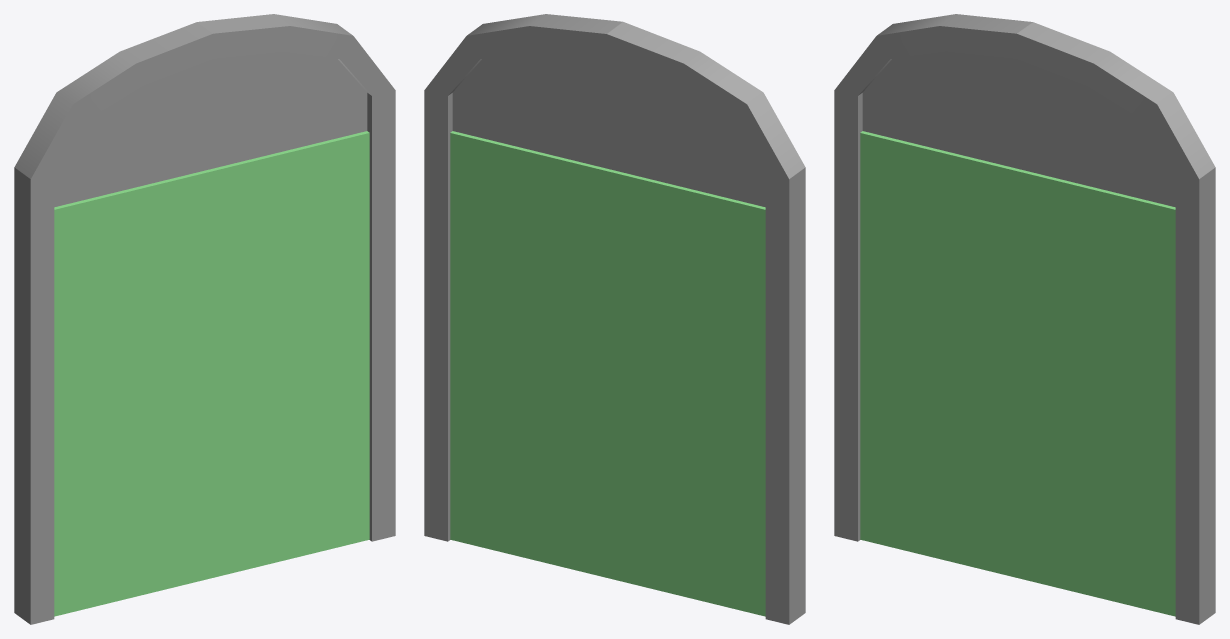
Rendered from Green Gate.fbx.
3 views of the same model, side by side, from view 1: azimuth 30°, elevation 25°; view 2: azimuth 150°, elevation 25°; view 3: azimuth 330°, elevation 25° (orthographic).
Visible parts, largest first — view 1: pCube5; view 2: pCube5; view 3: pCube5.
Boxes of the visible parts, x1=… form: pCube5: x1=14, y1=14, x2=395, y2=624; pCube5: x1=424, y1=14, x2=805, y2=624; pCube5: x1=834, y1=14, x2=1215, y2=624.
Bounding box in the file's own units: 4.69 × 6.72 × 0.3681.
